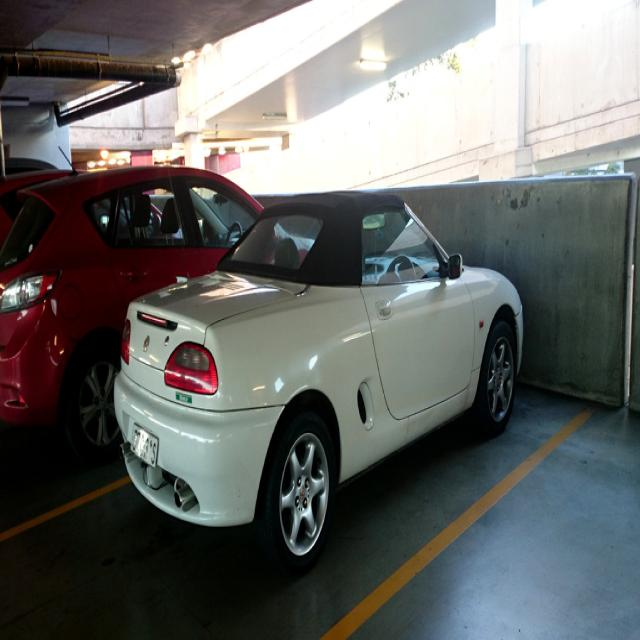car: (106, 183, 534, 569)
